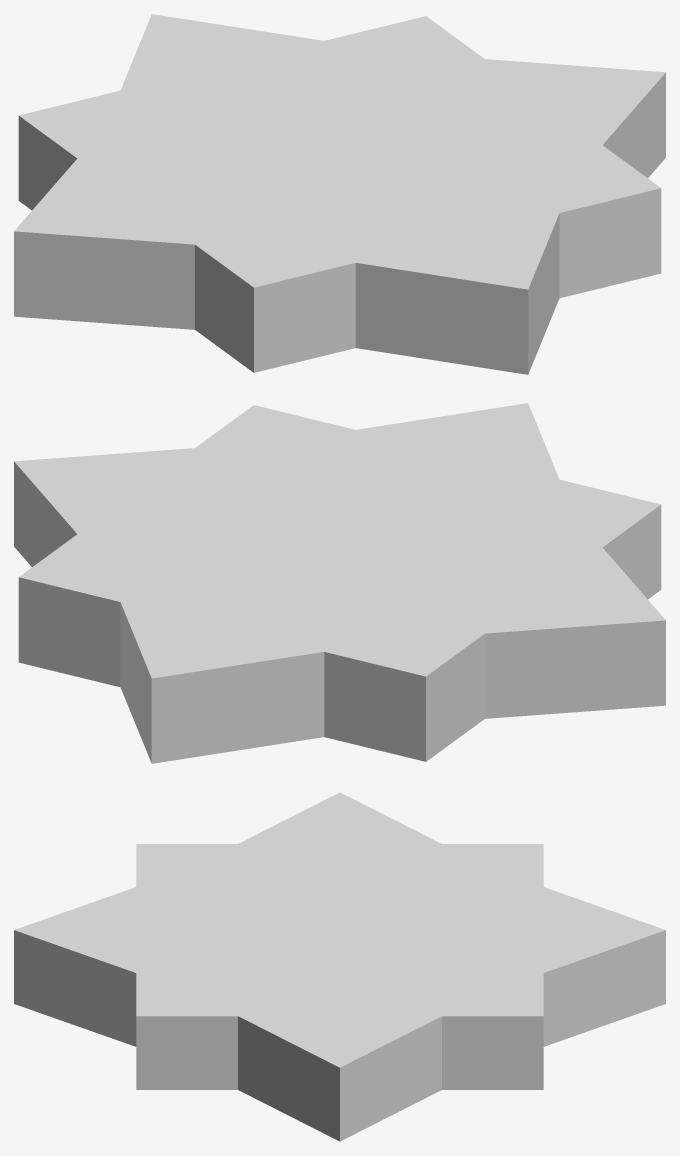
File: Ice.fbx
3 renders of one model, top to bottom at view 1: azimuth 30°, elevation 25°; view 2: azimuth 150°, elevation 25°; view 3: azimuth 270°, elevation 25°, orthographic. The views are drawn at different scales.
Parts seen in each view (by area): view 1: Ice; view 2: Ice; view 3: Ice.
Part boxes in pixels (bbox=[...]): Ice: bbox=[14, 14, 665, 374]; Ice: bbox=[14, 403, 665, 763]; Ice: bbox=[14, 792, 665, 1141].
Bounding box in the file's own units: 1.6 × 0.2 × 1.6.
